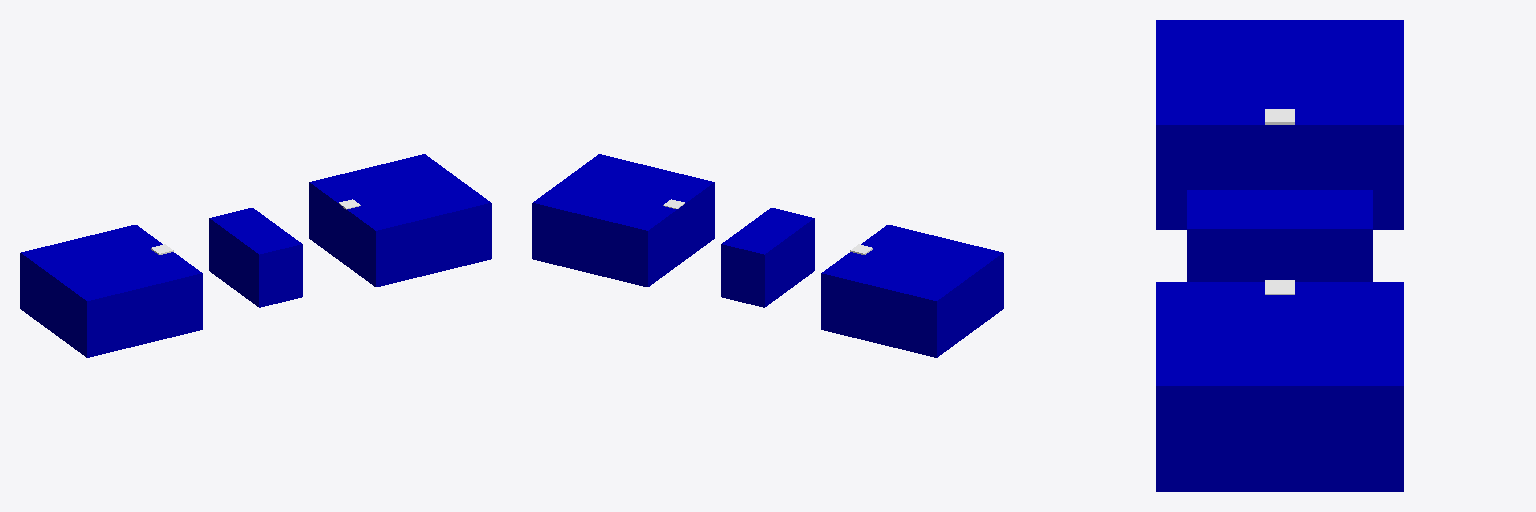
URDF robot description (robot_table):
<?xml version="1.0"?>
<!--<robot xmlns:xacro="http://wiki.ros.org/xacro" name="robot_table">
    <xacro:macro name="robot_table">-->
<robot name="robot_table">
        <link name="world" />

        <material name="blue">
            <color rgba="0 0 0.8 1"/>
        </material>

        <material name="white">
            <color rgba="1 1 1 1"/>
        </material>

        <link name="table_middle">
            <visual>
                <geometry>
                    <box size="0.6 1.2 0.705" />
                </geometry>
                <origin xyz="0 0 0.3525" rpy="0 0 0" />
                <material name="blue" />
            </visual>
        </link>

        <joint name="world_to_table" type="fixed">
            <parent link="world" />
            <child link="table_middle" />
            <origin xyz="0 0 0" rpy="0 0 0" />
        </joint>

        <link name="table_base_hong">
          <visual>
              <geometry>
                  <box size="1.6 1.6 0.75" />
              </geometry>
              <origin xyz="0 0 0.375" rpy="0 0 0" />
              <material name="blue" />
          </visual>
        </link>

        <link name="upper_block_hong" >
          <visual>
              <geometry>
                  <box size="0.2 0.2 0.02" />
              </geometry>
              <origin xyz="0 0 0.01" rpy="0 0 0" />
              <material name="white" />
          </visual>
        </link>

        <joint name="world_to_table_hong" type="fixed">
            <parent link="world" />
            <child link="table_base_hong" />
            <origin xyz="-2 0 0" rpy="0 0 0" />
        </joint>

        <joint name="table_to_block_hong" type="fixed">
            <parent link="table_base_hong" />
            <child link="upper_block_hong" />
            <origin xyz="0.7 0 0.75" rpy="0 0 0" />
        </joint>

        <link name="table_base_kong">
          <visual>
              <geometry>
                  <box size="1.6 1.6 0.75" />
              </geometry>
              <origin xyz="0 0 0.375" rpy="0 0 0" />
              <material name="blue" />
          </visual>
        </link>

        <link name="upper_block_kong" >
          <visual>
              <geometry>
                  <box size="0.2 0.2 0.02" />
                  <origin xyz="0 0 0.01" rpy="0 0 0" />
              </geometry>
              <material name="white" />
          </visual>
        </link>

        <joint name="world_to_table_kong" type="fixed">
            <parent link="world" />
            <child link="table_base_kong" />
            <origin xyz="2 0 0" rpy="0 0 0" />
        </joint>

        <joint name="table_to_block_kong" type="fixed">
            <parent link="table_base_kong" />
            <child link="upper_block_kong" />
            <origin xyz="-0.7 0 0.75" rpy="0 0 0" />
        </joint>


</robot>

--- Render facts (derived) ---
3 views of the same robot in one strip: view 1: azimuth 30°, elevation 25°; view 2: azimuth 150°, elevation 25°; view 3: azimuth 270°, elevation 25° (orthographic).
Model robot_table with 6 links and 5 joints (5 fixed), rooted at world, posed all joints at 0.
Visible links, largest first — view 1: table_base_kong, table_base_hong, table_middle; view 2: table_base_kong, table_base_hong, table_middle; view 3: table_base_kong, table_base_hong, table_middle.
Boxes of the visible links, x1=… form: table_base_kong: x1=309, y1=154, x2=491, y2=286; table_base_hong: x1=20, y1=225, x2=202, y2=357; table_middle: x1=209, y1=208, x2=302, y2=307; table_base_kong: x1=532, y1=154, x2=714, y2=286; table_base_hong: x1=821, y1=225, x2=1003, y2=357; table_middle: x1=721, y1=208, x2=814, y2=307; table_base_kong: x1=1156, y1=282, x2=1403, y2=491; table_base_hong: x1=1156, y1=20, x2=1403, y2=229; table_middle: x1=1187, y1=190, x2=1372, y2=281.
Bounding box of the posed robot: 5.6 × 1.6 × 0.77 m (x, y, z).
Geometry: primitives only (box / cylinder / sphere), no mesh files.
